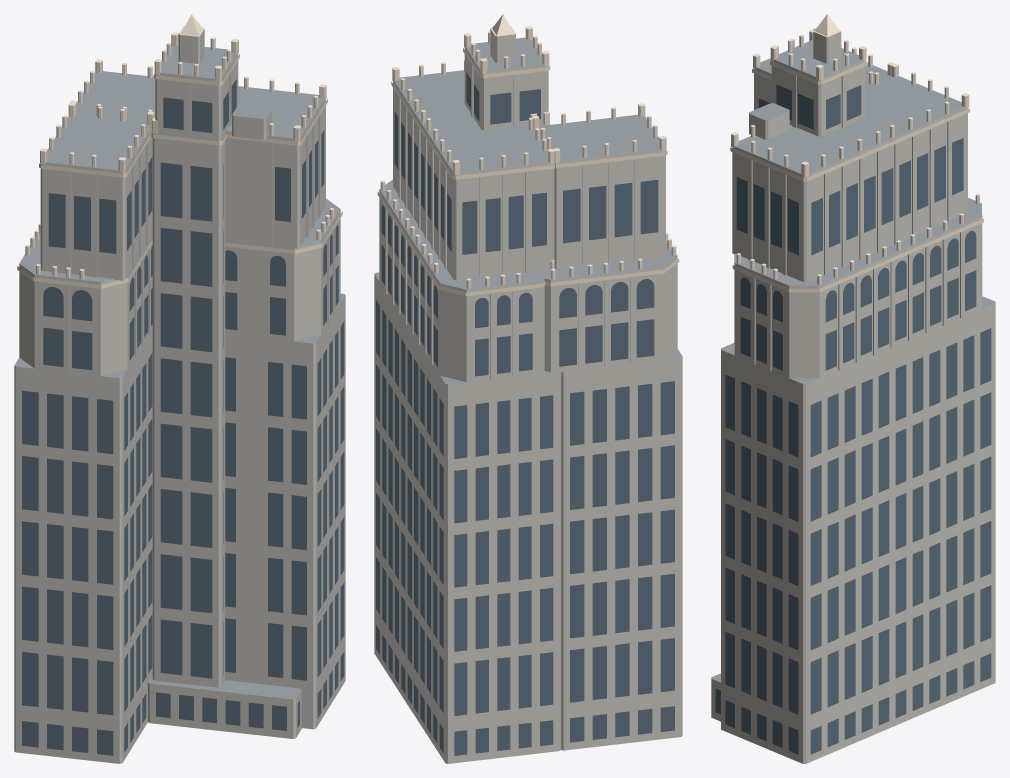
3 views of the same model, side by side, from view 1: azimuth 30°, elevation 25°; view 2: azimuth 150°, elevation 25°; view 3: azimuth 270°, elevation 25° (orthographic).
Parts seen in each view (by area): view 1: pacific-telephone-building; view 2: pacific-telephone-building; view 3: pacific-telephone-building.
Part boxes in pixels (<box>): pacific-telephone-building: <box>14,14,345,763</box>; pacific-telephone-building: <box>374,14,682,763</box>; pacific-telephone-building: <box>711,14,995,763</box>.
Size of the model in its own units: 67.9 by 140 by 52.96.
